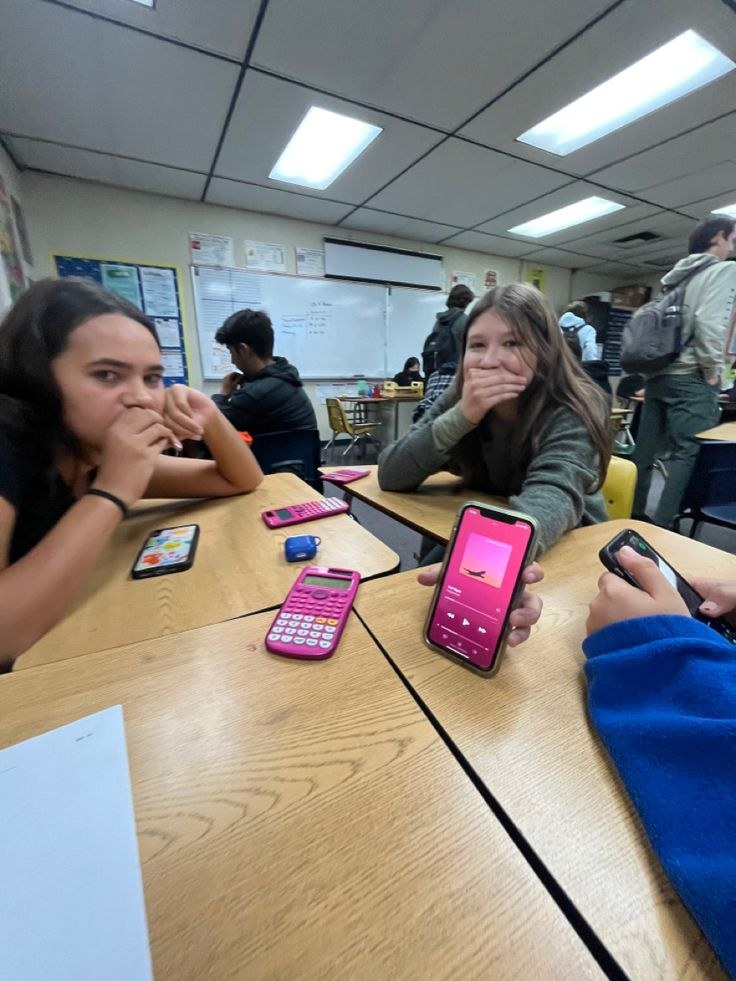cell phone: (423, 501, 540, 678), (598, 527, 735, 644), (131, 523, 200, 579)
